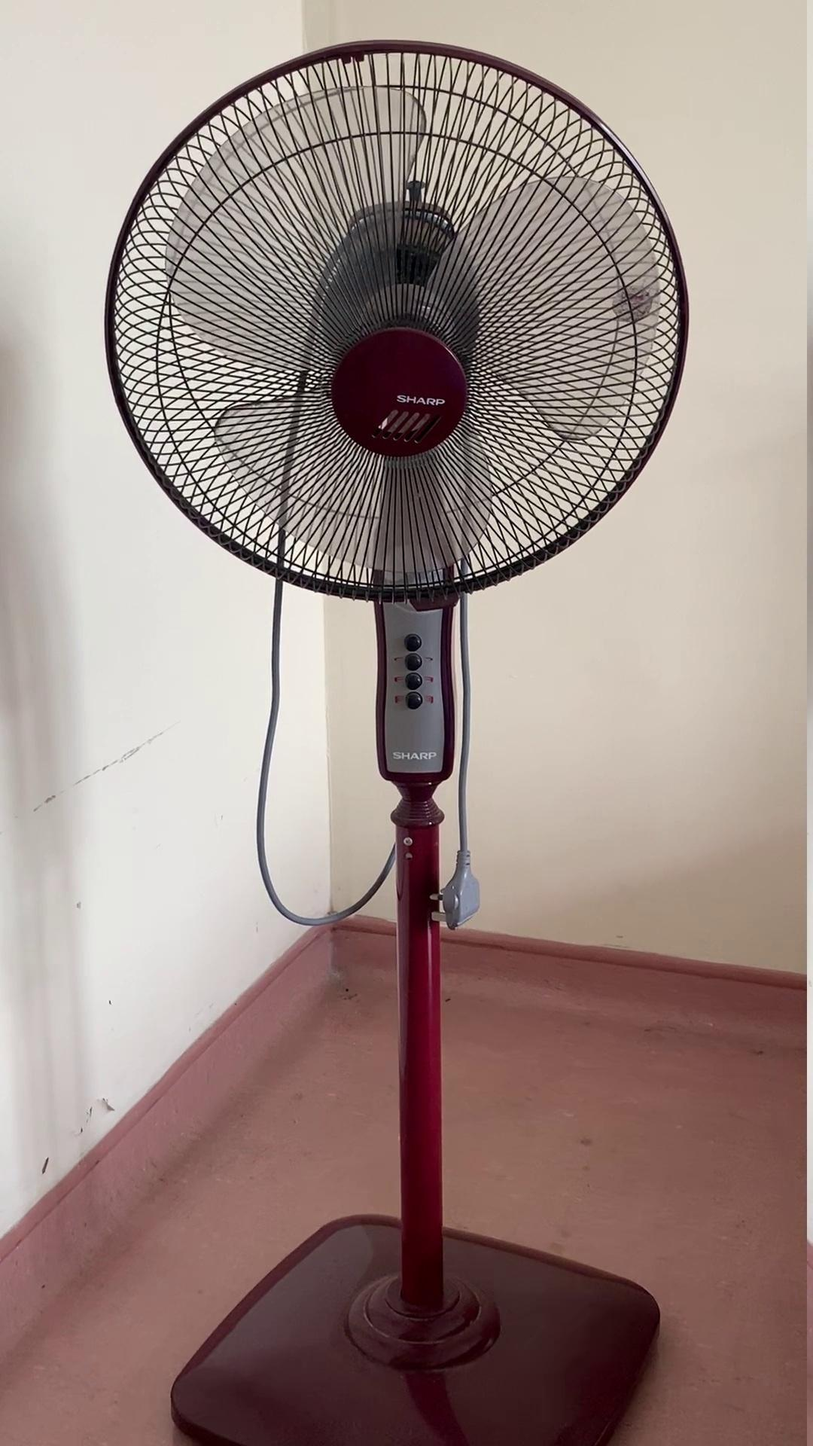fan: (95, 13, 731, 1446)
